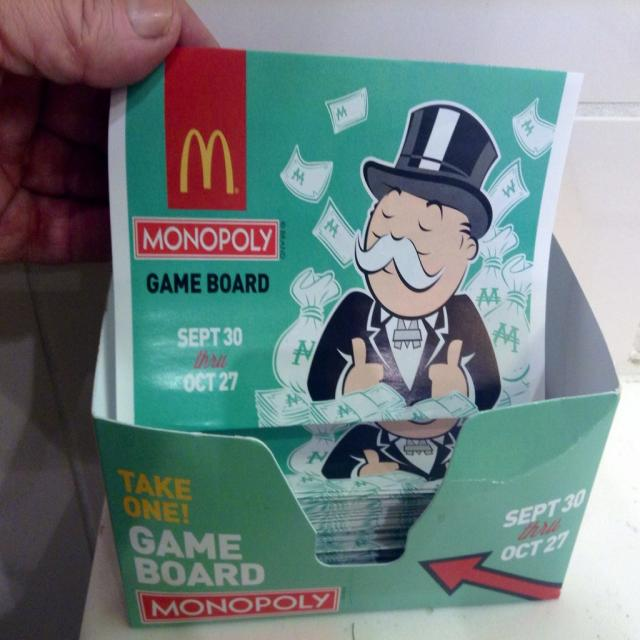Box: (92, 230, 620, 626)
